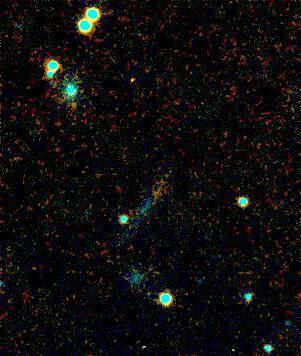star: (122, 66, 152, 96)
